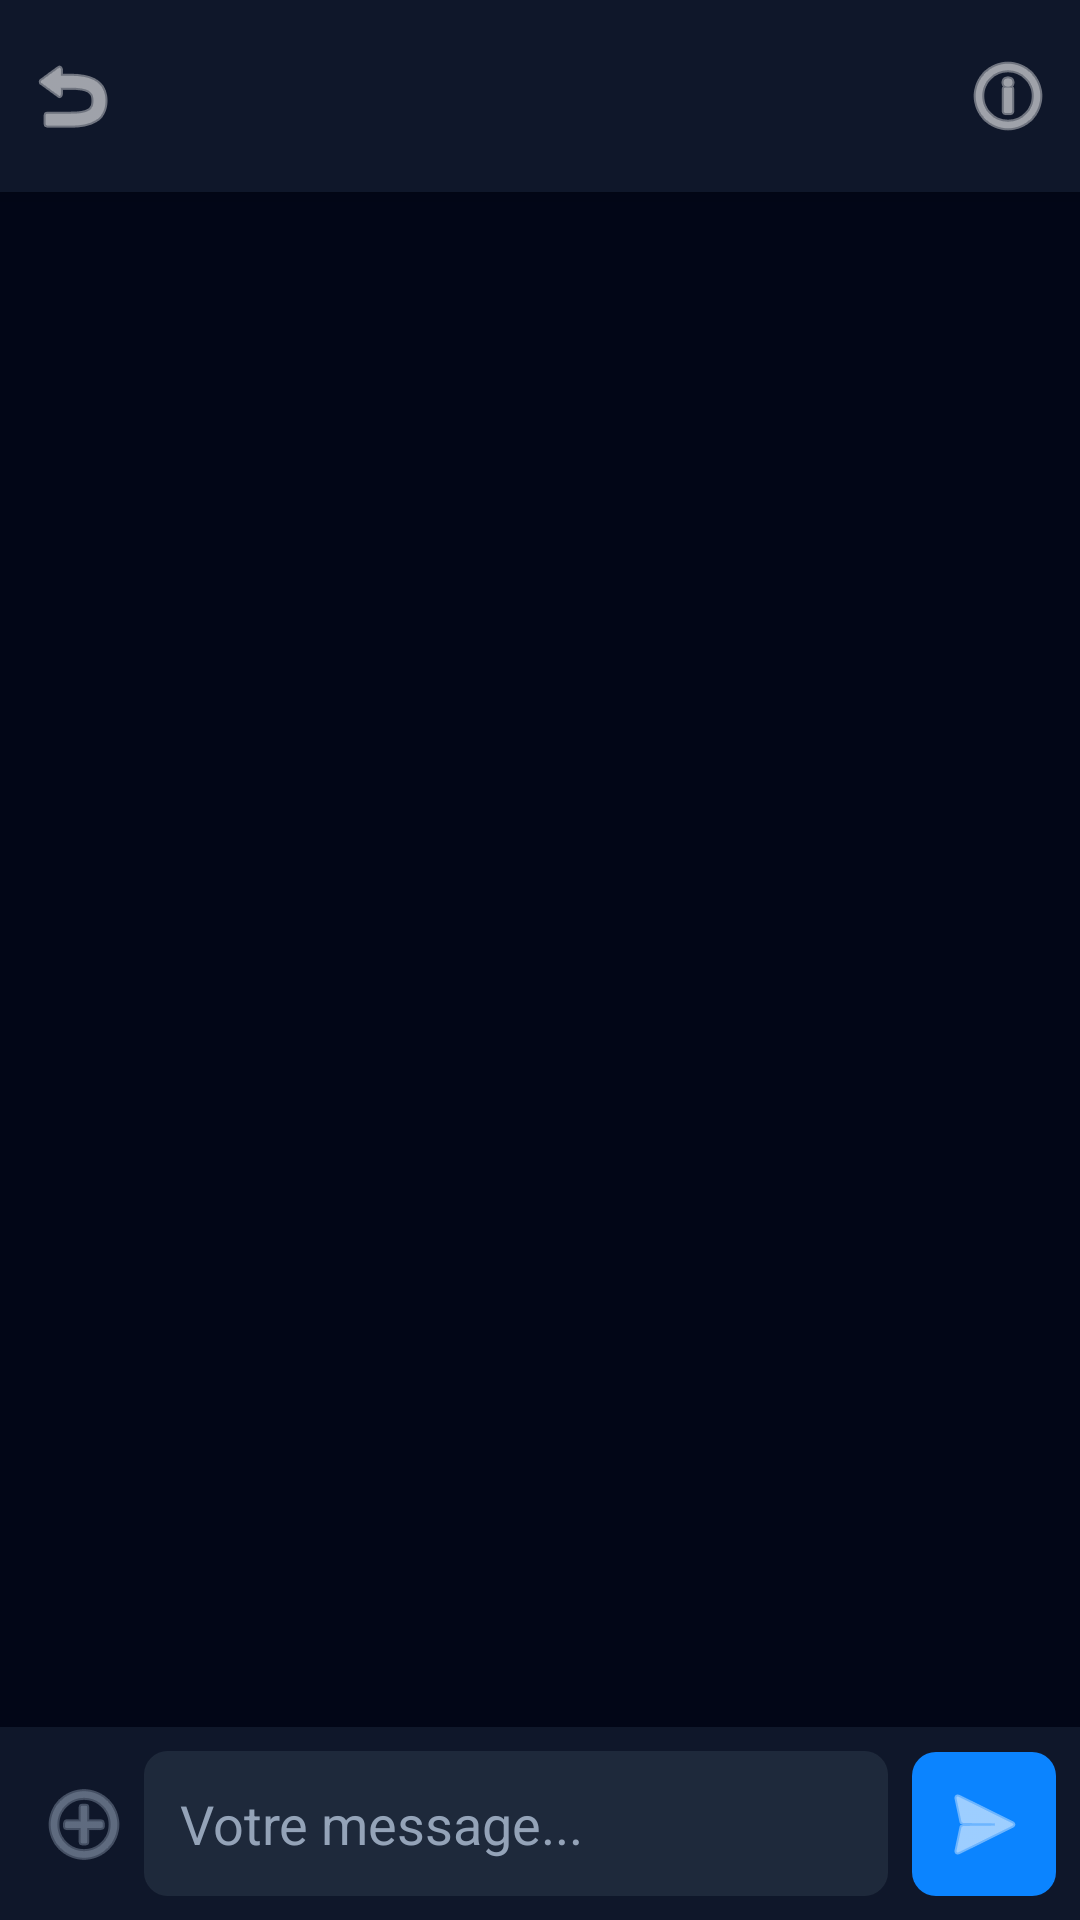

Screen size 1080 × 1920. Icon name, then its center in pixels as [x,y]:
add: [84,1824]
info details: [1008,96]
revert: [73,96]
send: [984,1824]
